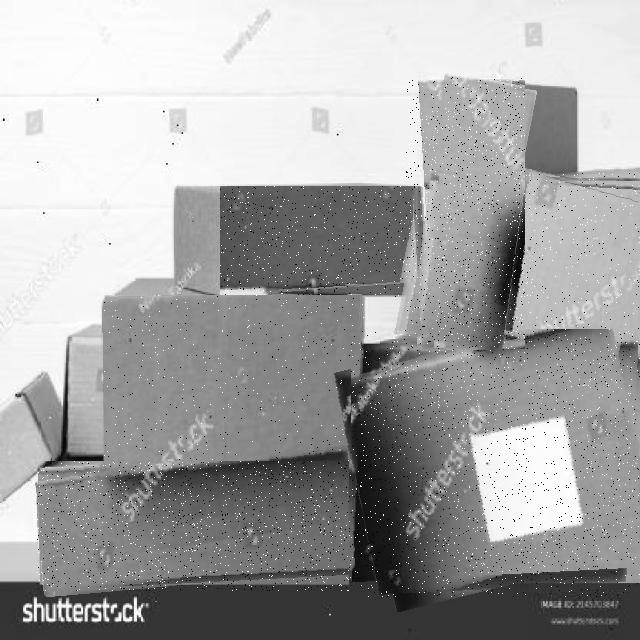BoxFace: (351, 329, 640, 597), (104, 295, 364, 482), (38, 461, 366, 591), (406, 77, 525, 351), (489, 173, 640, 366), (220, 186, 415, 297)
